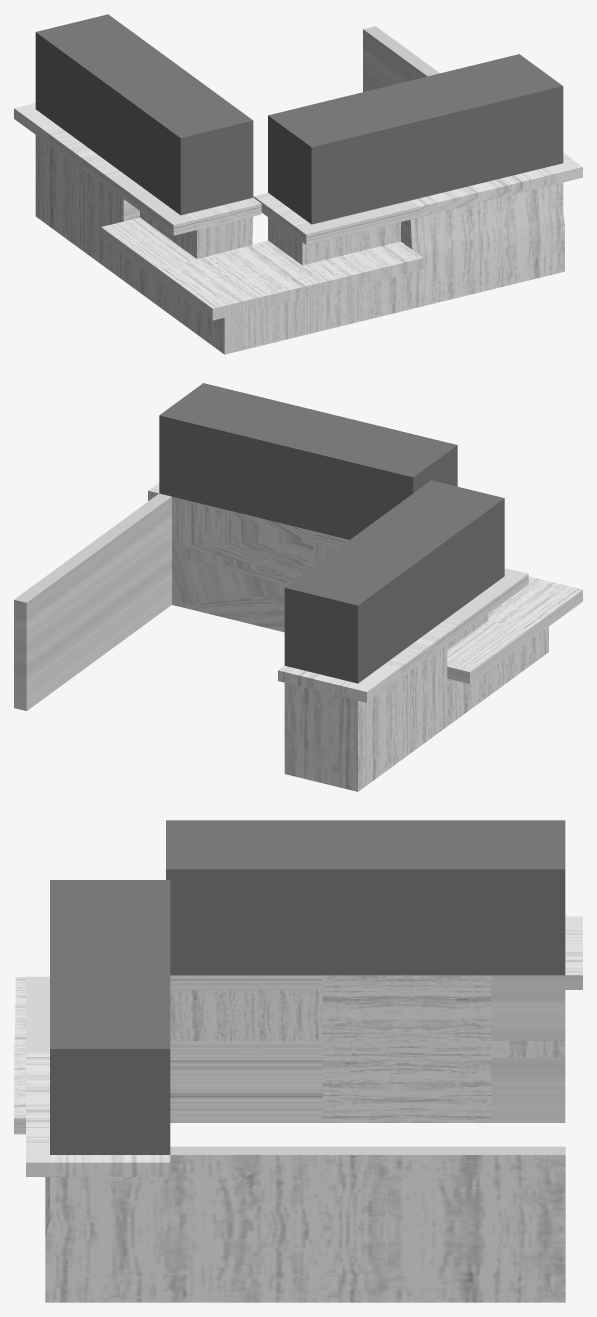
File: countertop1.fbx
3 renders of one model, top to bottom at view 1: azimuth 30°, elevation 25°; view 2: azimuth 150°, elevation 25°; view 3: azimuth 270°, elevation 25°, orthographic. The views are drawn at different scales.
Visible parts, largest first — view 1: countertop1; view 2: countertop1; view 3: countertop1.
Part boxes in pixels (x1,y1,x2,y2): countertop1: (14,14,582,354); countertop1: (14,383,582,791); countertop1: (14,820,582,1302).
Size of the model in its own units: 75.03 by 35.34 by 71.85.
Materials: 2 (1 with a texture image).
